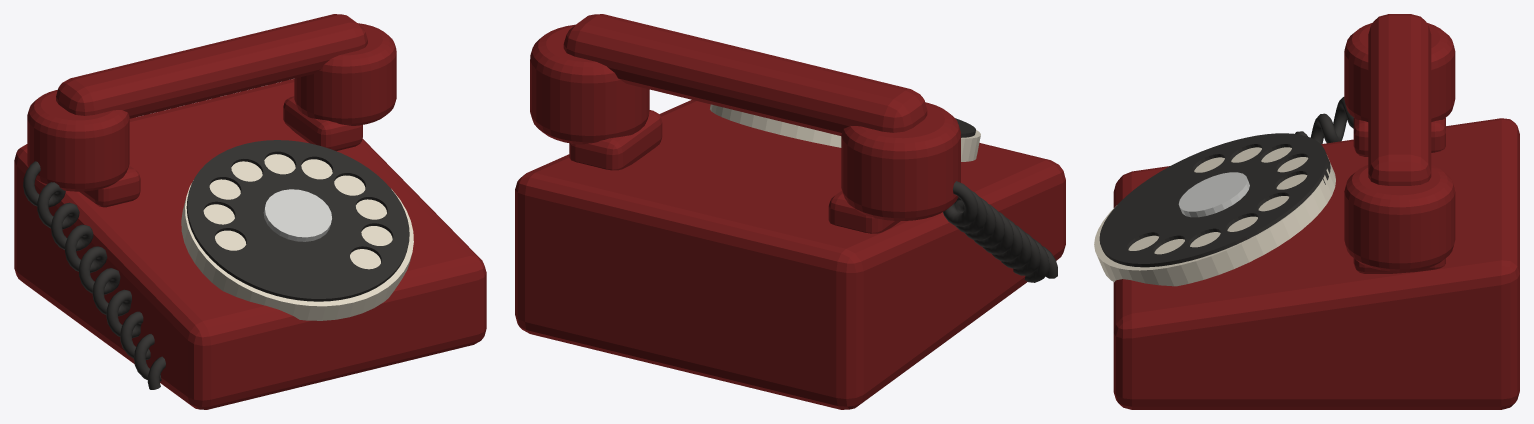
The model's file is phone.glb.
3 views of the same model, side by side, from view 1: azimuth 30°, elevation 25°; view 2: azimuth 150°, elevation 25°; view 3: azimuth 270°, elevation 25° (orthographic). The views are drawn at different scales.
Parts seen in each view (by area): view 1: phone; view 2: phone; view 3: phone.
Boxes of the visible parts, x1,y1,x2,y2 form: phone: (14, 14, 486, 409); phone: (515, 14, 1065, 409); phone: (1094, 14, 1519, 409).
Bounding box in the file's own units: 0.2503 × 0.151 × 0.2305.
